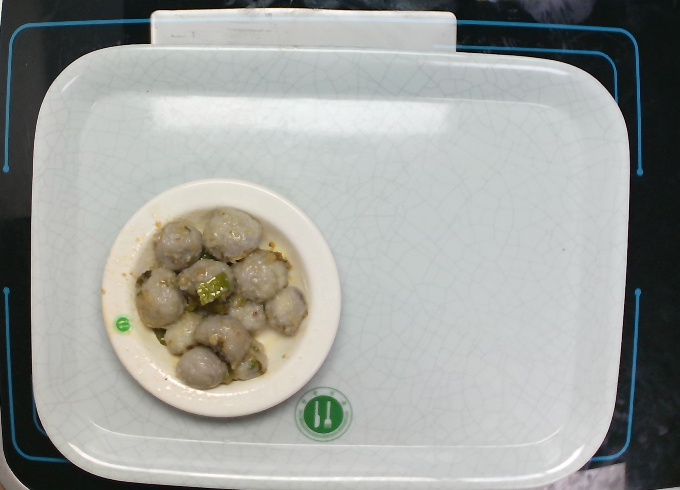WCQzf-Kuan_Bian_Yuan_Die: (99, 176, 345, 421)
